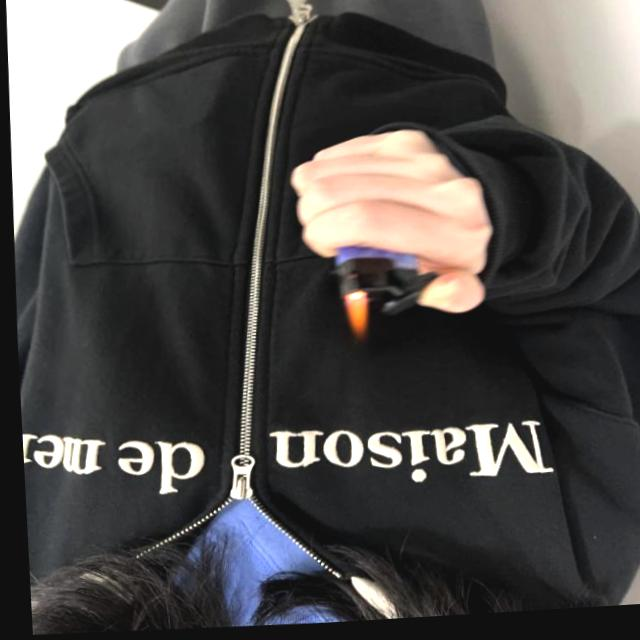helmet: (335, 293, 369, 345)
